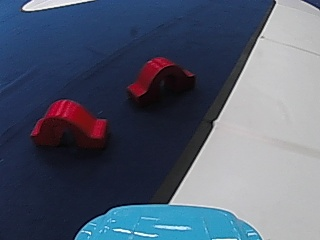bridge: (27, 95, 112, 152), (124, 52, 196, 108)
